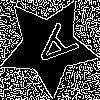A: (23, 21, 80, 78)
